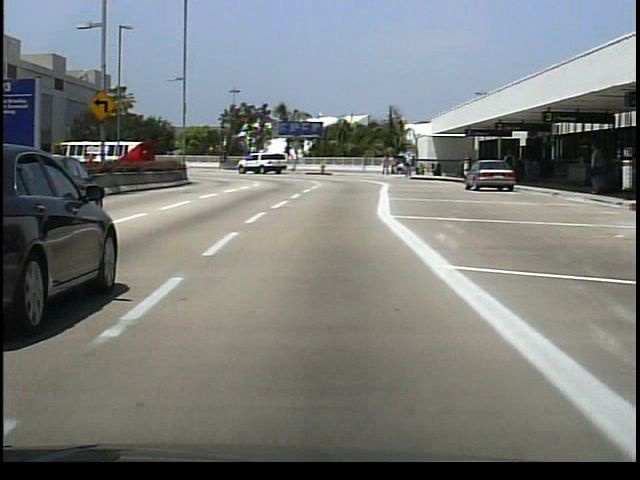person: (585, 143, 607, 199), (501, 147, 518, 185), (462, 152, 479, 185), (405, 150, 415, 180), (382, 152, 391, 176), (389, 153, 396, 177)
